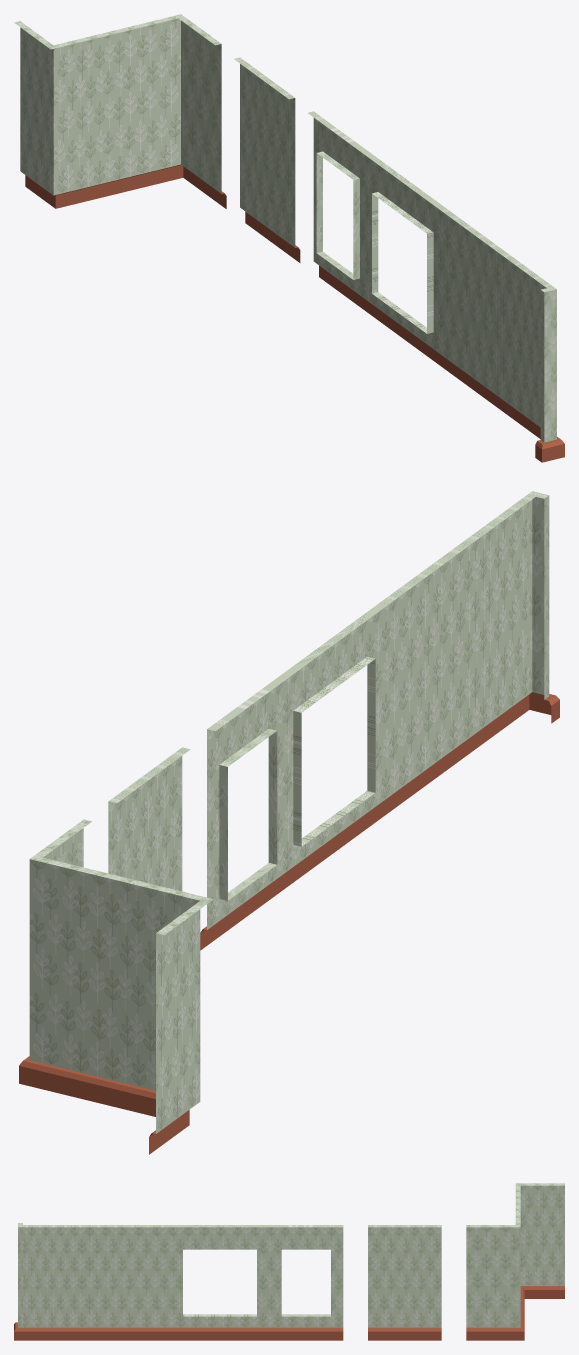
Rendered from leaf_walls_inside.fbx.
3 renders of one model, top to bottom at view 1: azimuth 30°, elevation 25°; view 2: azimuth 150°, elevation 25°; view 3: azimuth 270°, elevation 25°, orthographic. The views are drawn at different scales.
Visible parts, largest first — view 1: Wall_Inside_outerCorner, Wall_Inside_innerCorner, Wall_Inside_2meters, Wall_Inside_1.5meter, Wall_Inside_BigWindow, Wall_Inside_smallWindow, Wall_Inside_1meter, Wall_Inside_End; view 2: Wall_Inside_outerCorner, Wall_Inside_2meters, Wall_Inside_innerCorner, Wall_Inside_BigWindow, Wall_Inside_smallWindow, Wall_Inside_1meter, Wall_Inside_1.5meter, Wall_Inside_End; view 3: Wall_Inside_2meters, Wall_Inside_1.5meter, Wall_Inside_BigWindow, Wall_Inside_outerCorner, Wall_Inside_1meter, Wall_Inside_smallWindow, Wall_Inside_innerCorner, Wall_Inside_End.
Boxes of the visible parts, x1=… form: Wall_Inside_outerCorner: x1=108, y1=14, x2=226, y2=208; Wall_Inside_innerCorner: x1=14, y1=21, x2=113, y2=208; Wall_Inside_2meters: x1=436, y1=205, x2=521, y2=424; Wall_Inside_1.5meter: x1=234, y1=57, x2=300, y2=262; Wall_Inside_BigWindow: x1=363, y1=152, x2=447, y2=370; Wall_Inside_smallWindow: x1=308, y1=111, x2=373, y2=316; Wall_Inside_1meter: x1=510, y1=259, x2=552, y2=438; Wall_Inside_End: x1=535, y1=286, x2=564, y2=462; Wall_Inside_outerCorner: x1=19, y1=819, x2=127, y2=1107; Wall_Inside_2meters: x1=372, y1=531, x2=485, y2=824; Wall_Inside_innerCorner: x1=119, y1=878, x2=213, y2=1154; Wall_Inside_BigWindow: x1=274, y1=603, x2=387, y2=896; Wall_Inside_smallWindow: x1=200, y1=675, x2=288, y2=950; Wall_Inside_1meter: x1=471, y1=494, x2=535, y2=751; Wall_Inside_1.5meter: x1=108, y1=747, x2=190, y2=891; Wall_Inside_End: x1=520, y1=491, x2=559, y2=723; Wall_Inside_2meters: x1=72, y1=1225, x2=170, y2=1340; Wall_Inside_1.5meter: x1=368, y1=1225, x2=441, y2=1340; Wall_Inside_BigWindow: x1=170, y1=1225, x2=269, y2=1340; Wall_Inside_outerCorner: x1=466, y1=1204, x2=524, y2=1340; Wall_Inside_1meter: x1=23, y1=1225, x2=71, y2=1340; Wall_Inside_smallWindow: x1=269, y1=1225, x2=343, y2=1340; Wall_Inside_innerCorner: x1=515, y1=1183, x2=564, y2=1306; Wall_Inside_End: x1=14, y1=1223, x2=22, y2=1340.
Size of the model in its own units: 218 by 250 by 1118.
